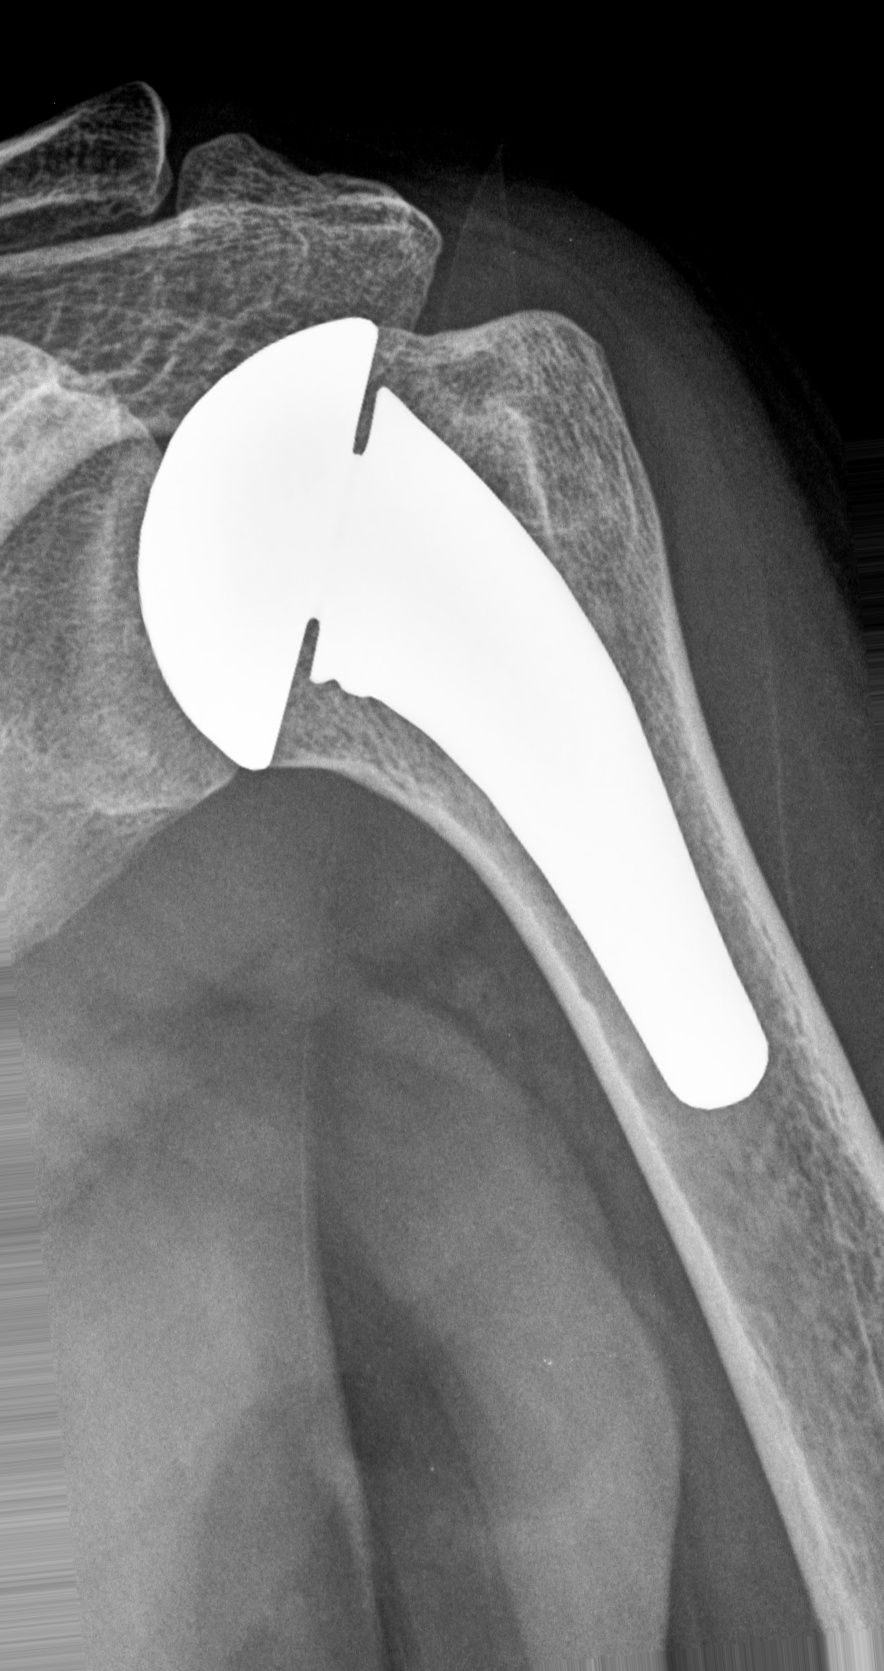Shoulder - AequalisAscendFlex - Tornier: (122, 301, 394, 792)
